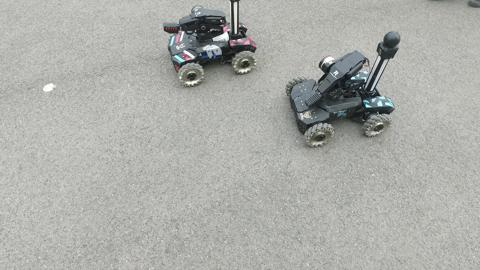chariot: (282, 26, 412, 151), (162, 1, 267, 87)
